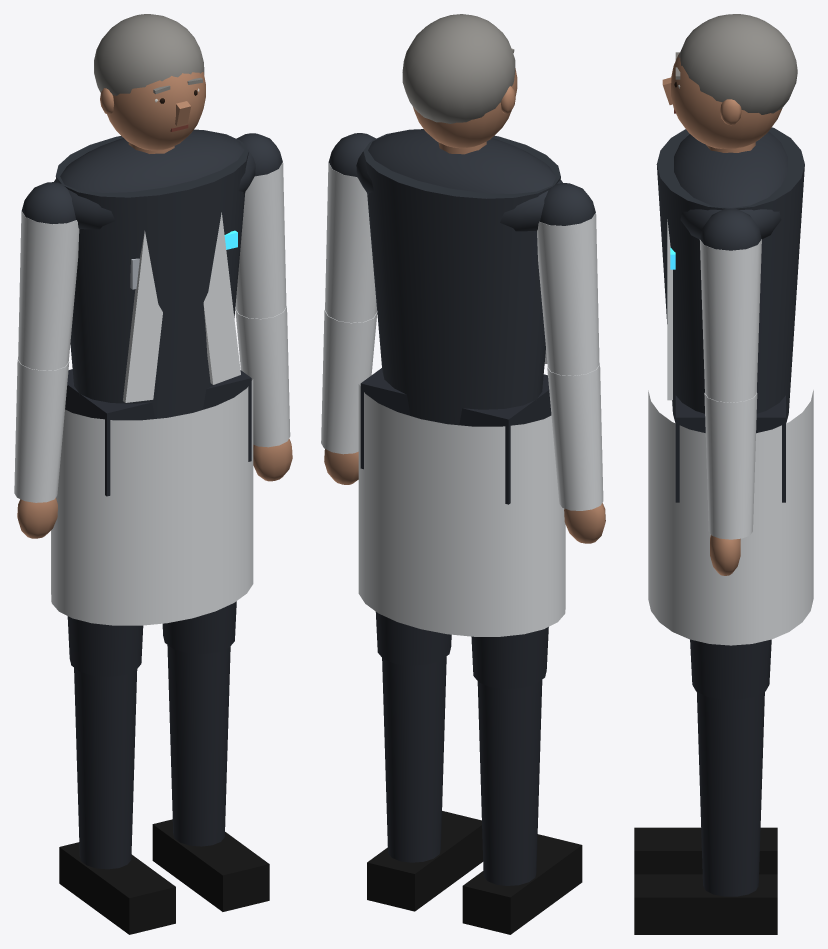
Rendered from char_officer.glb.
3 views of the same model, side by side, from view 1: azimuth 30°, elevation 25°; view 2: azimuth 150°, elevation 25°; view 3: azimuth 270°, elevation 25° (orthographic). The views are drawn at different scales.
Visible parts, largest first — view 1: Torso__Char_Lab, Torso__Char_Graphite, Shin__Char_Pants (×2), UpperArm__Char_Lab (×2), Shin__Char_Shoes (×2), Forearm__Char_Lab (×2), Head_Mesh__Char_Hair_Gray, Thigh__Char_Pants (×2), Head_Mesh__Char_Skin_A, Pelvis__Char_Pants, UpperArm__Char_Graphite (×2), Forearm__Char_Skin_A (×2); view 2: Torso__Char_Graphite, Torso__Char_Lab, Shin__Char_Pants (×2), UpperArm__Char_Lab (×2), Forearm__Char_Lab (×2), Shin__Char_Shoes (×2), Head_Mesh__Char_Hair_Gray, Thigh__Char_Pants (×2), Pelvis__Char_Pants, UpperArm__Char_Graphite (×2), Head_Mesh__Char_Skin_A, Forearm__Char_Skin_A (×2); view 3: Torso__Char_Lab, Torso__Char_Graphite, Shin__Char_Pants, Shin__Char_Shoes (×2), Head_Mesh__Char_Hair_Gray, UpperArm__Char_Lab, Forearm__Char_Lab, Head_Mesh__Char_Skin_A, Thigh__Char_Pants, Pelvis__Char_Pants, UpperArm__Char_Graphite, Forearm__Char_Skin_A.
Part boxes in pixels (x1,y1,x2,y2): Torso__Char_Lab: (51,212,253,625); Torso__Char_Graphite: (54,129,255,418); Shin__Char_Pants (×2): (74,645,230,869); UpperArm__Char_Lab (×2): (18,162,286,370); Shin__Char_Shoes (×2): (59,819,269,934); Forearm__Char_Lab (×2): (14,306,290,502); Head_Mesh__Char_Hair_Gray: (94,14,204,95); Thigh__Char_Pants (×2): (67,601,236,676); Head_Mesh__Char_Skin_A: (100,72,205,153); Pelvis__Char_Pants: (65,369,251,496); UpperArm__Char_Graphite (×2): (21,133,282,224); Forearm__Char_Skin_A (×2): (17,438,292,538); Torso__Char_Graphite: (356,129,562,425); Torso__Char_Lab: (358,350,565,636); Shin__Char_Pants (×2): (382,656,542,885); UpperArm__Char_Lab (×2): (325,162,599,375); Forearm__Char_Lab (×2): (321,309,603,510); Shin__Char_Shoes (×2): (367,811,582,934); Head_Mesh__Char_Hair_Gray: (402,14,515,123); Thigh__Char_Pants (×2): (375,611,548,689); Pelvis__Char_Pants: (360,368,551,504); UpperArm__Char_Graphite (×2): (328,133,595,225); Head_Mesh__Char_Skin_A: (413,68,517,154); Forearm__Char_Skin_A (×2): (324,449,605,543); Torso__Char_Lab: (648,219,813,645); Torso__Char_Graphite: (656,127,804,422); Shin__Char_Pants: (697,692,764,896); Shin__Char_Shoes (×2): (634,827,777,934); Head_Mesh__Char_Hair_Gray: (678,14,797,114); UpperArm__Char_Lab: (699,239,761,402); Forearm__Char_Lab: (704,392,757,539); Head_Mesh__Char_Skin_A: (662,53,782,152); Thigh__Char_Pants: (690,639,771,699); Pelvis__Char_Pants: (675,395,785,502); UpperArm__Char_Graphite: (700,208,761,250); Forearm__Char_Skin_A: (710,535,740,575).
Size of the model in its own units: 0.5852 by 1.76 by 0.325.
